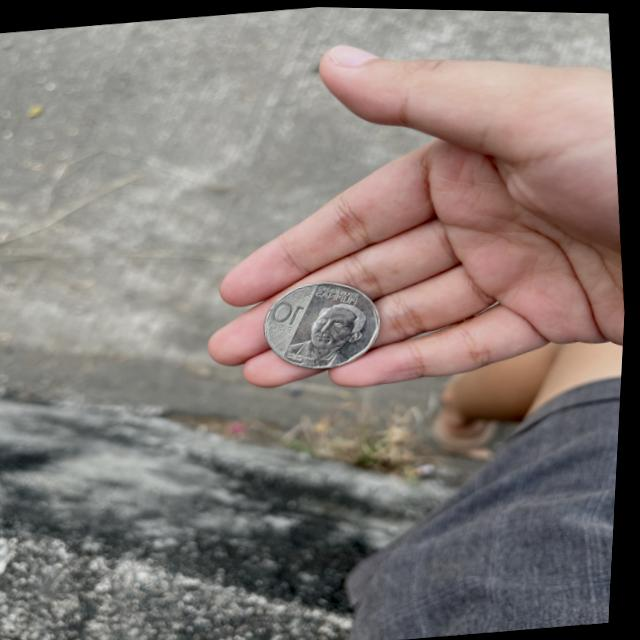10_New_Front: (265, 294, 315, 335)
